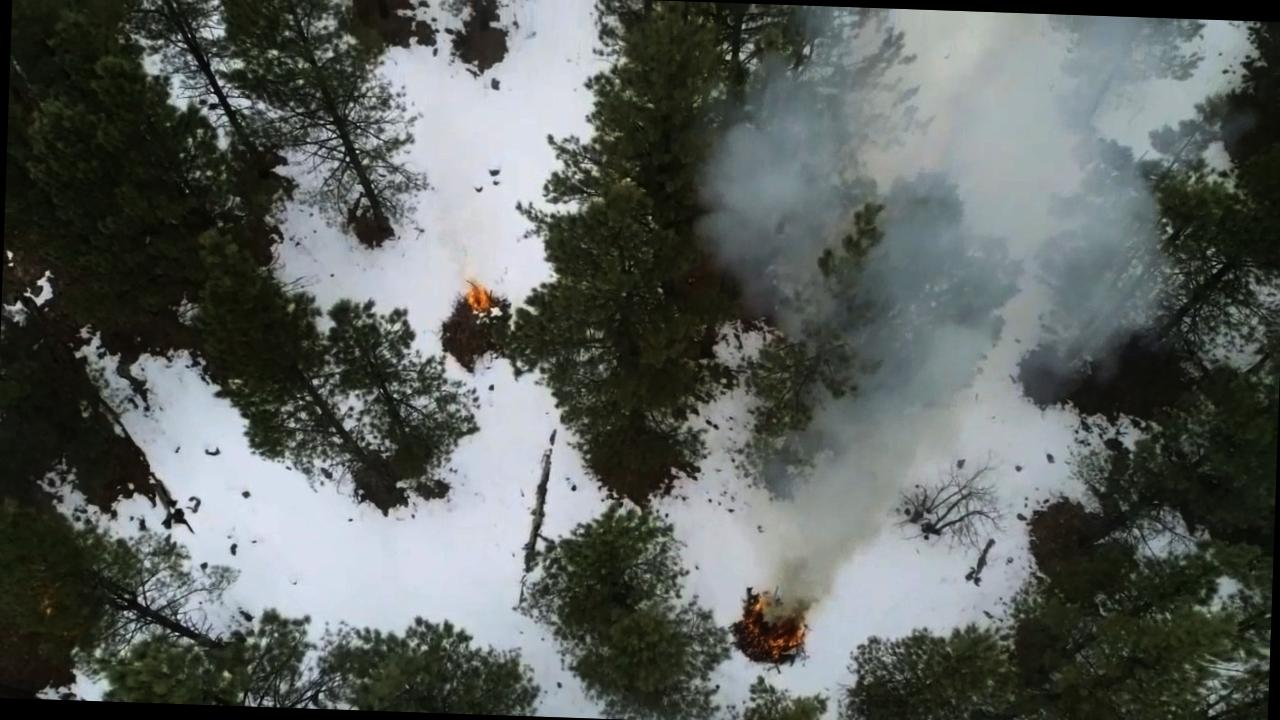fire: (738, 570, 820, 656), (458, 269, 497, 320)
smoke: (818, 7, 1194, 388), (706, 41, 898, 276)
